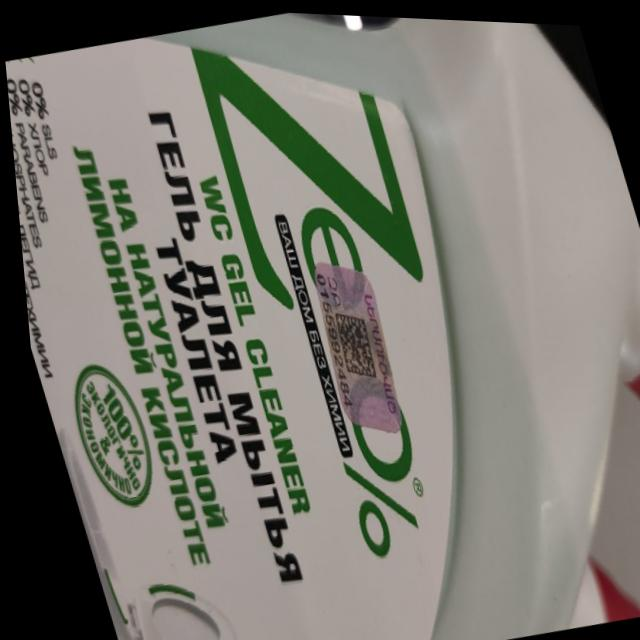datamatrix: (323, 303, 375, 381)
